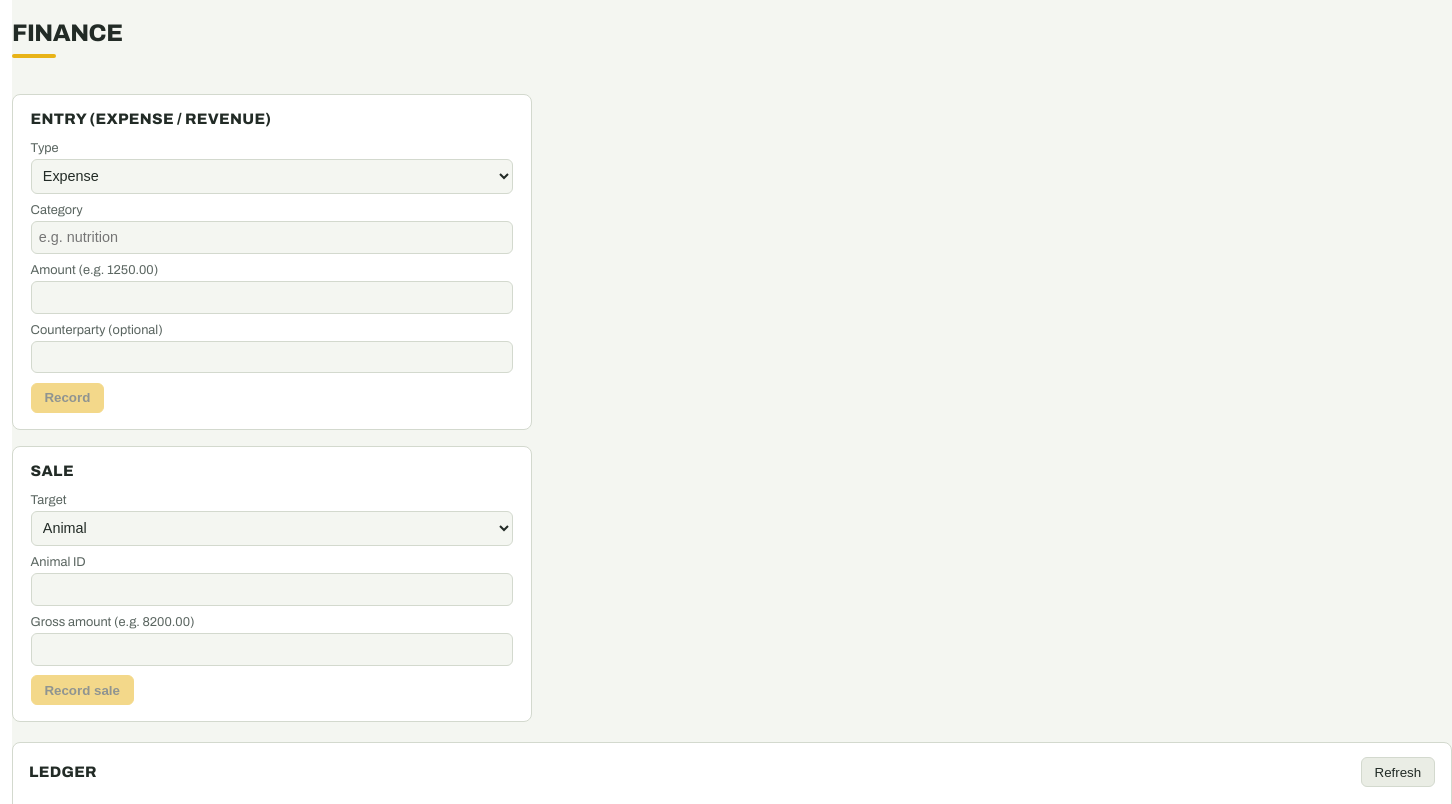
Test: per-tenant currency › adopts the tenant's currency and locale (USD / English) and records in USD
This screenshot has width=1452, height=804.
Expected: the heading "Finance" is shown, [12,20,122,58]
In the field labelled "Amount (e.g. 1250.00)": (272, 297) [31,281,513,314], type "1250"
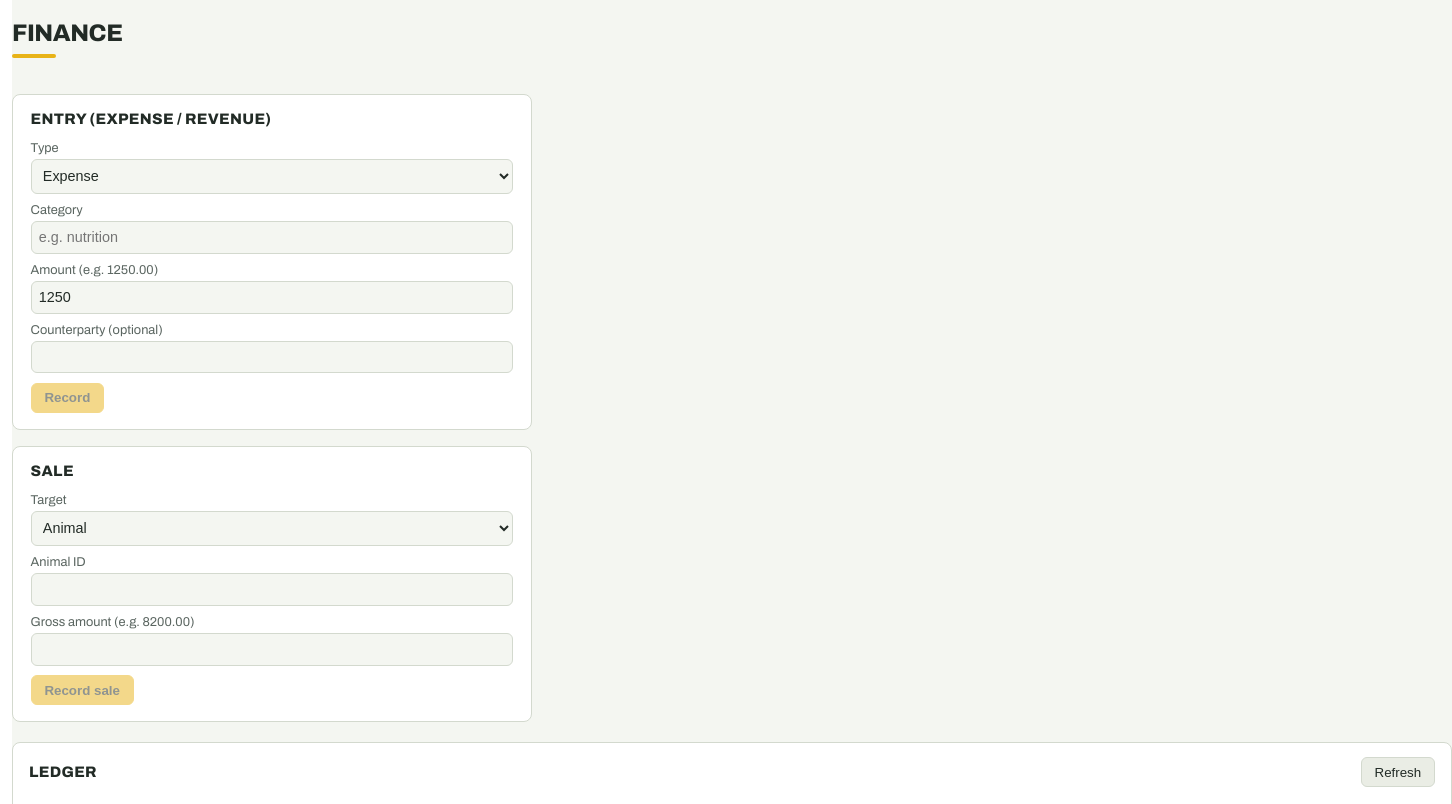
In the field labelled "Category": (272, 237) [31,221,513,254], type "feed"
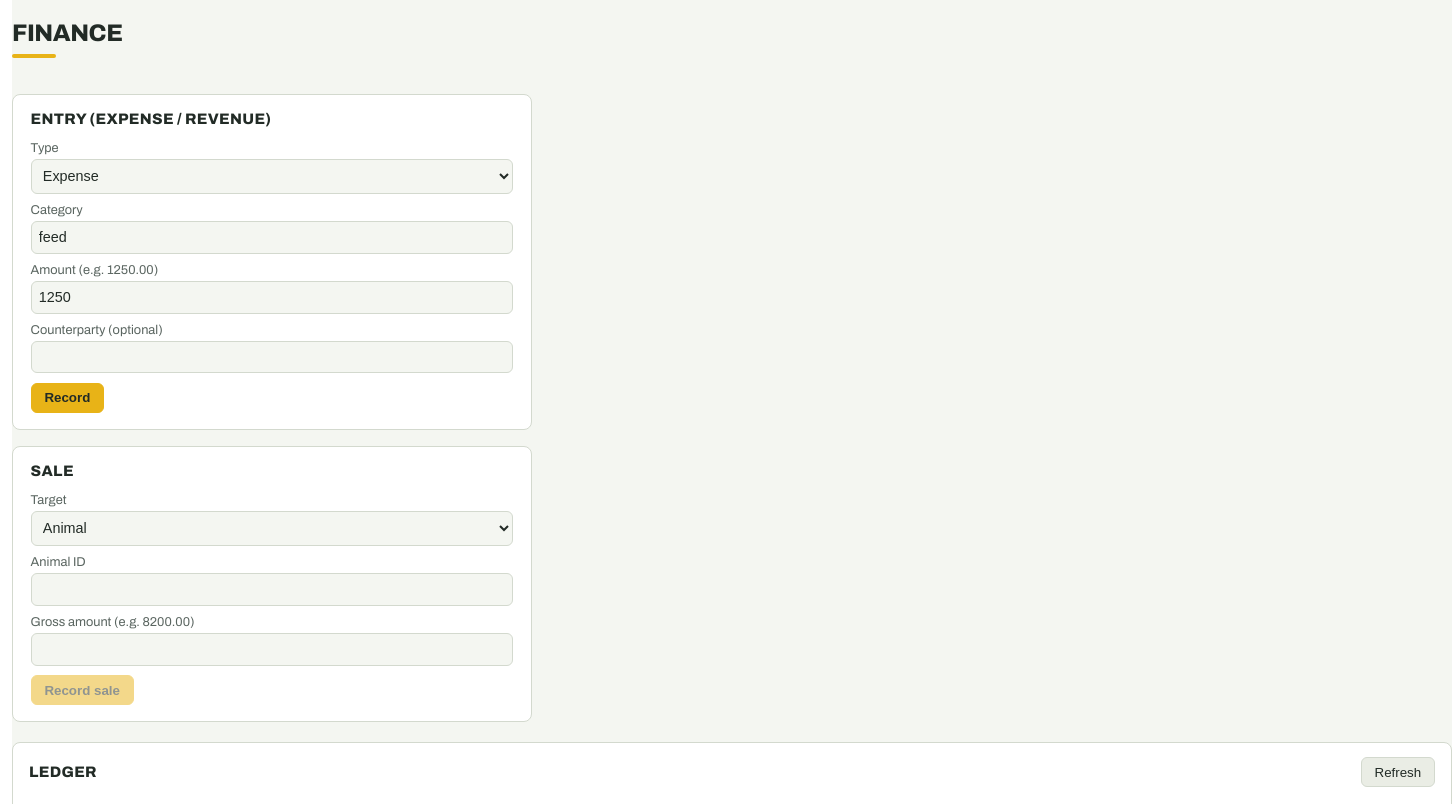
Click the button "Record": click(67, 398) [31,383,104,413]
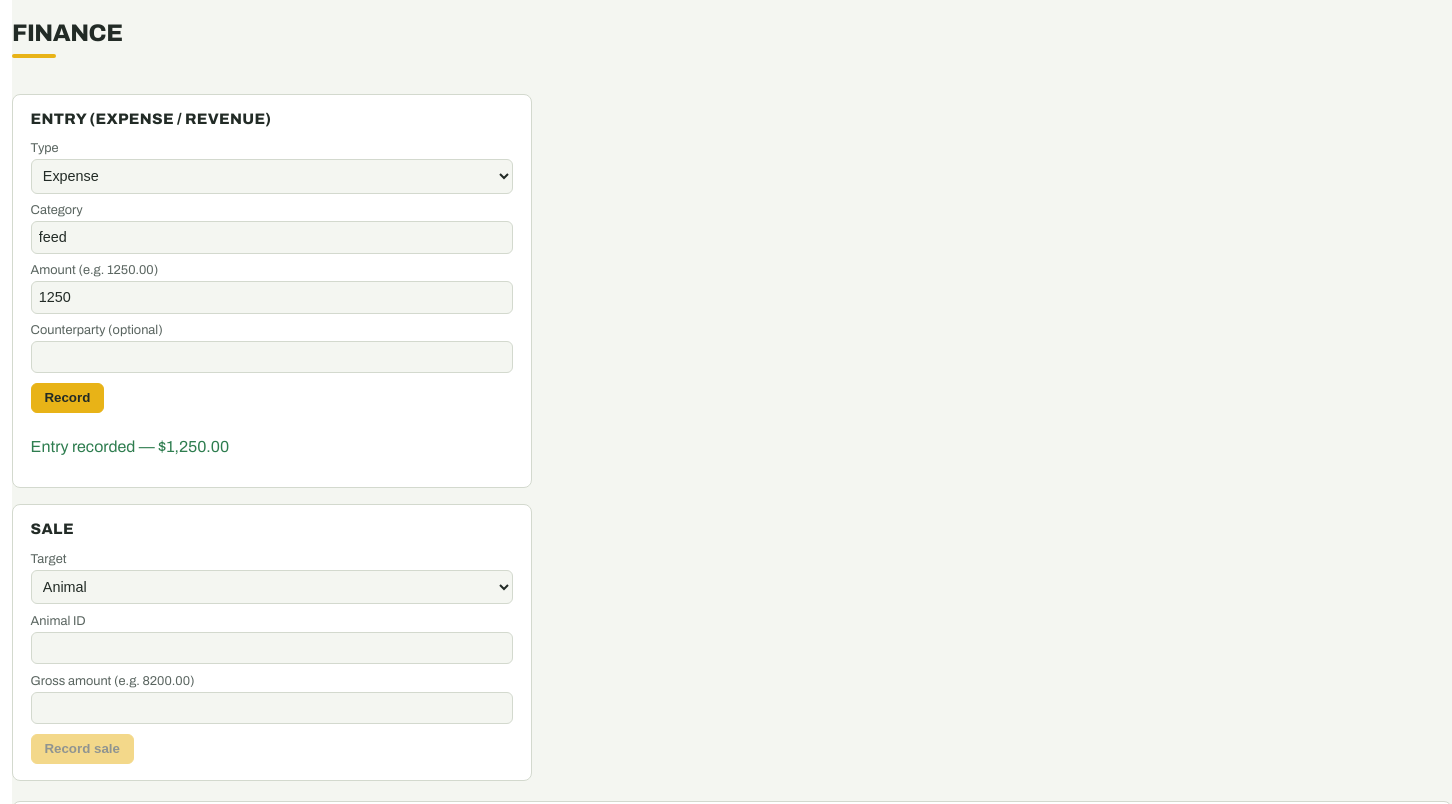
Expected: the text "Entry recorded — $1,250.00" is shown, [31,438,229,456]
Expected: the heading "Entry recorded" no longer shows "R$"
